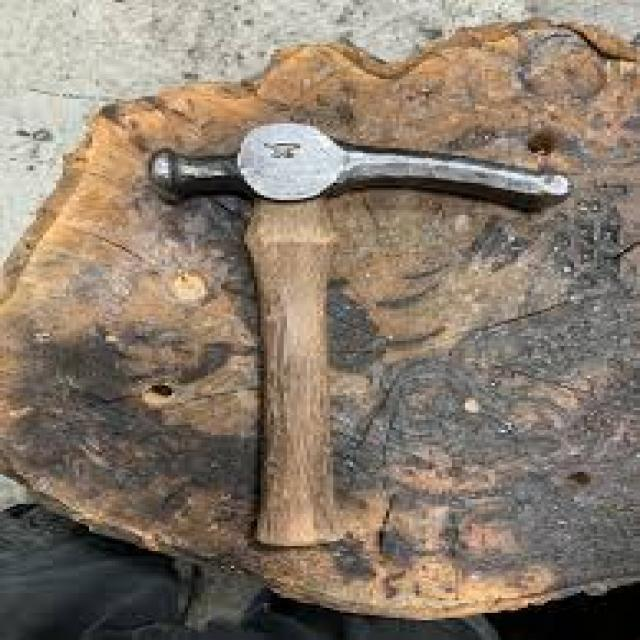hammer: (135, 119, 581, 554)
